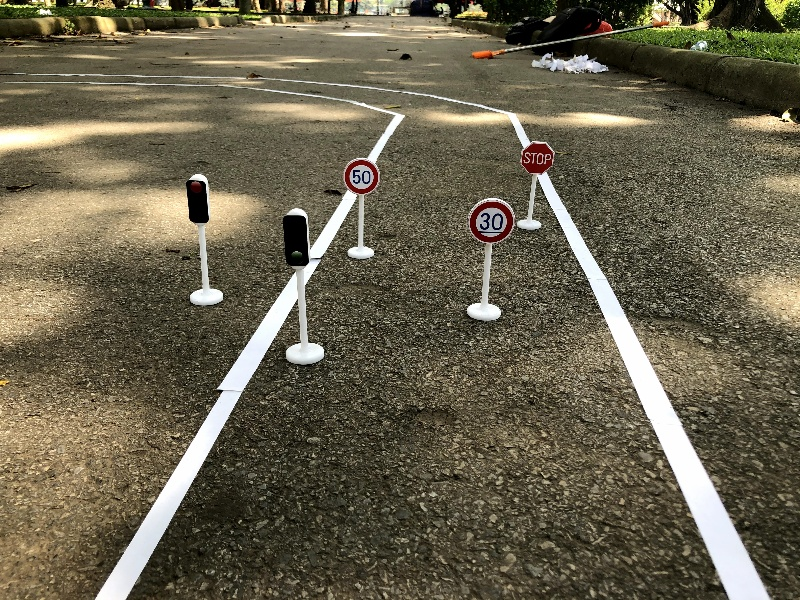Green: (281, 205, 328, 367)
Limit 30: (467, 195, 516, 323)
Limit 50: (341, 156, 381, 262)
Red: (181, 169, 228, 307)
Stop: (518, 139, 555, 230)
